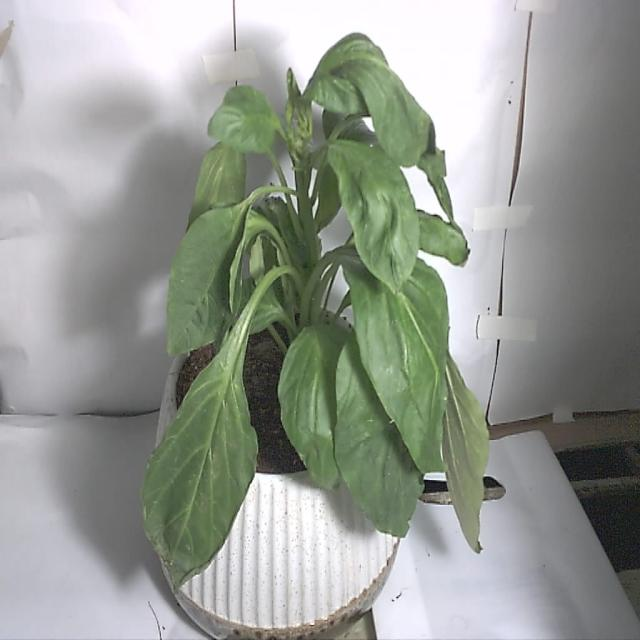Leaf: (138, 329, 260, 591), (336, 227, 454, 474), (334, 334, 427, 544)
